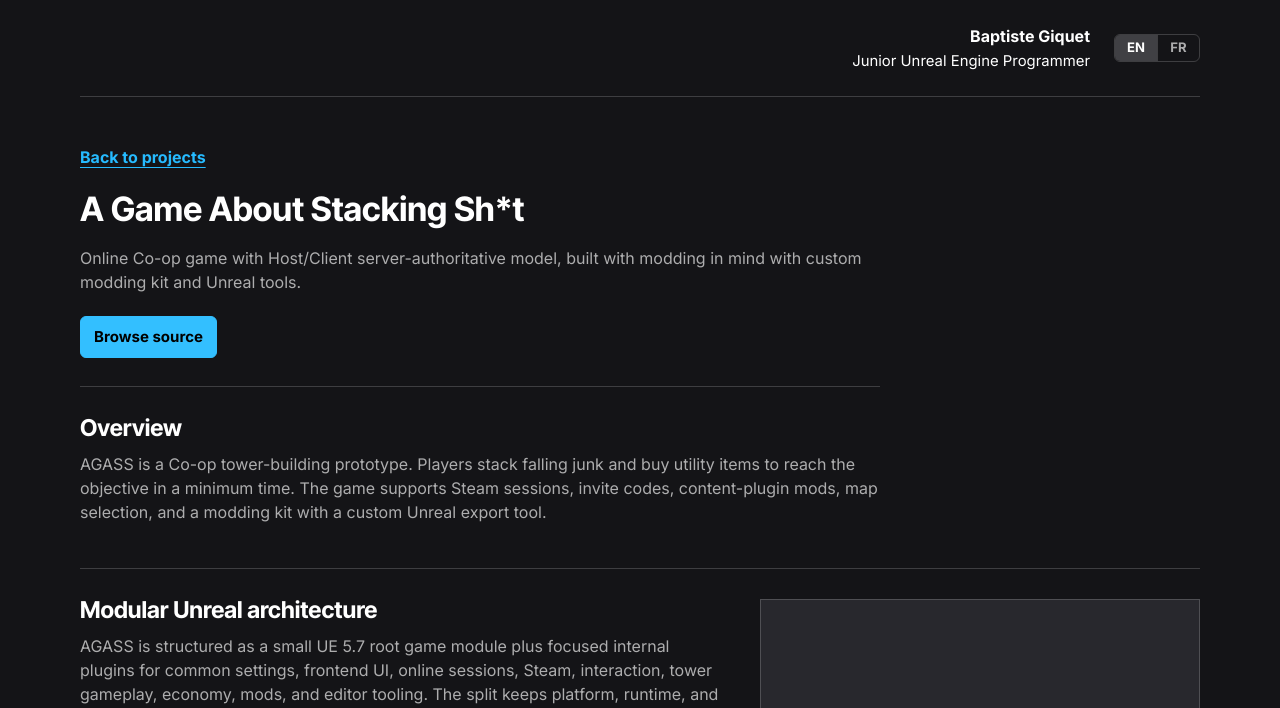
Test: App routing › navigates from Browse source to the source route
Click the link "Browse source" at {"x": 148, "y": 337}, box [80, 316, 217, 358]
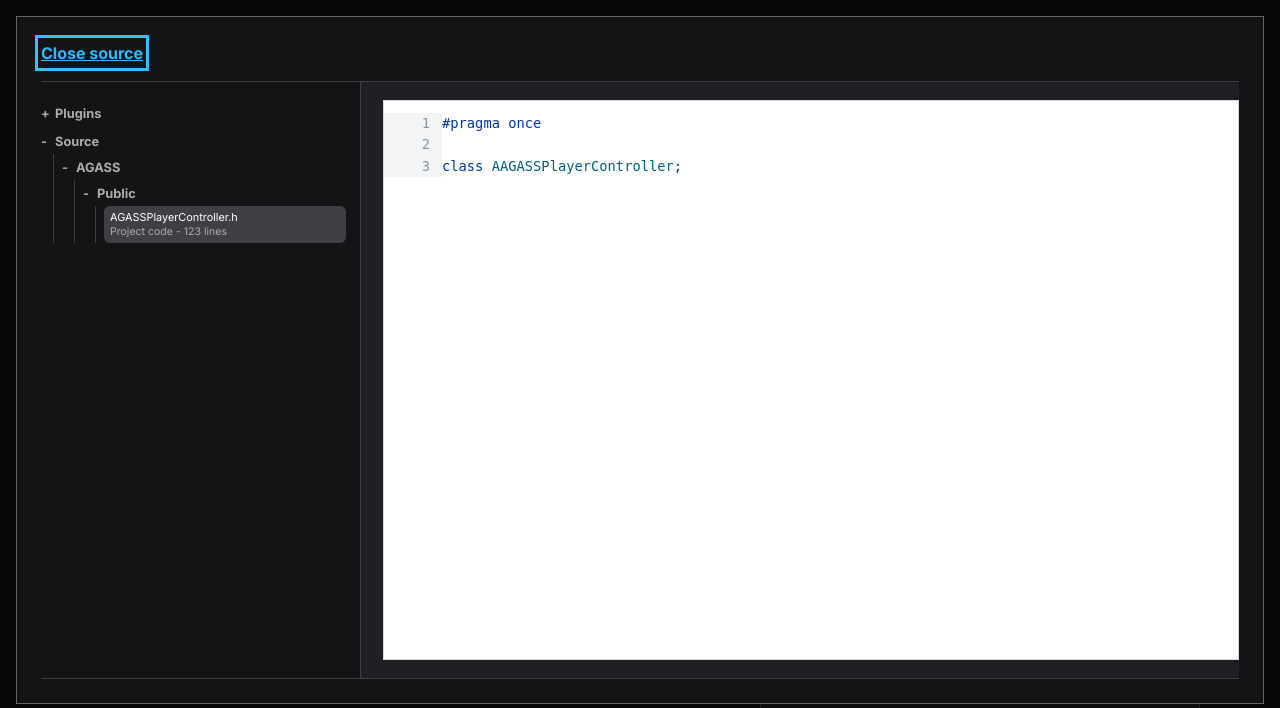
Expected: the heading "A Game About Stacking Sh*t" is shown, [80, 188, 524, 229]
Expected: the dialog named "AGASS source" is shown
